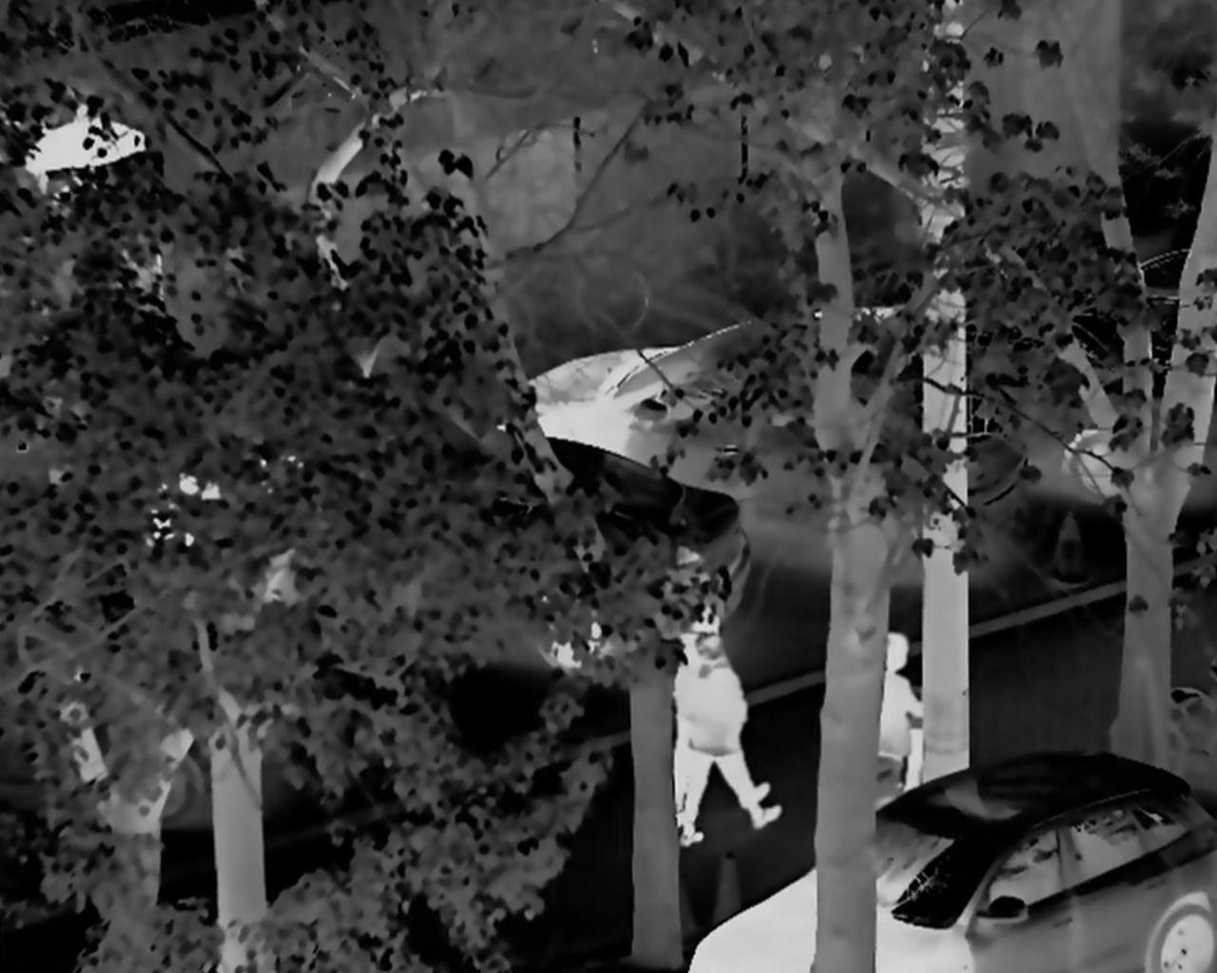person: (673, 614, 784, 853), (866, 631, 936, 830)
